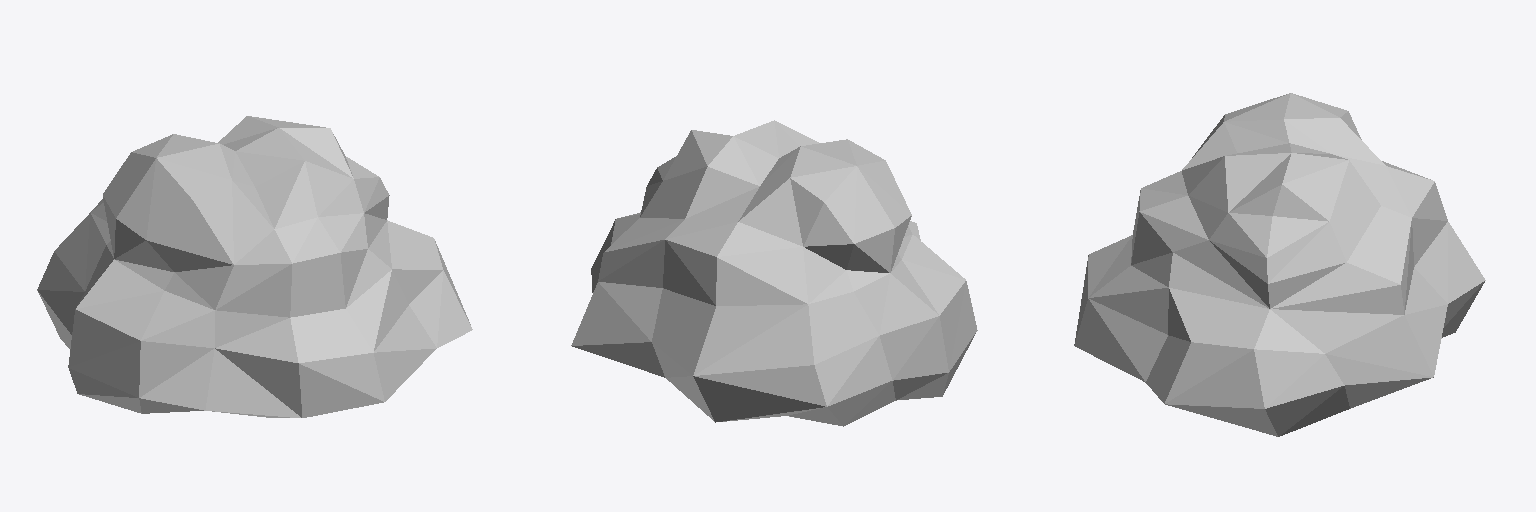
The model's file is leaves_02.obj.
The picture shows the model from 3 angles: view 1: azimuth 30°, elevation 25°; view 2: azimuth 150°, elevation 25°; view 3: azimuth 270°, elevation 25°; orthographic projection.
Size of the model in its own units: 5.89 by 3.65 by 5.69.